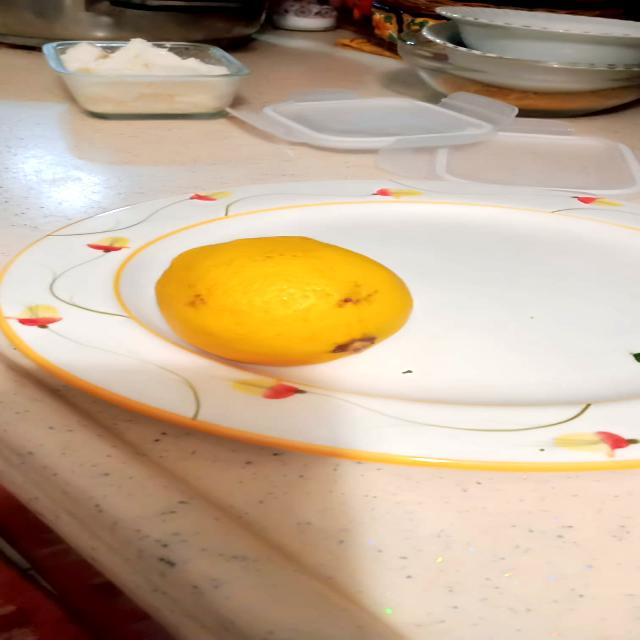lemon: (117, 231, 444, 373)
